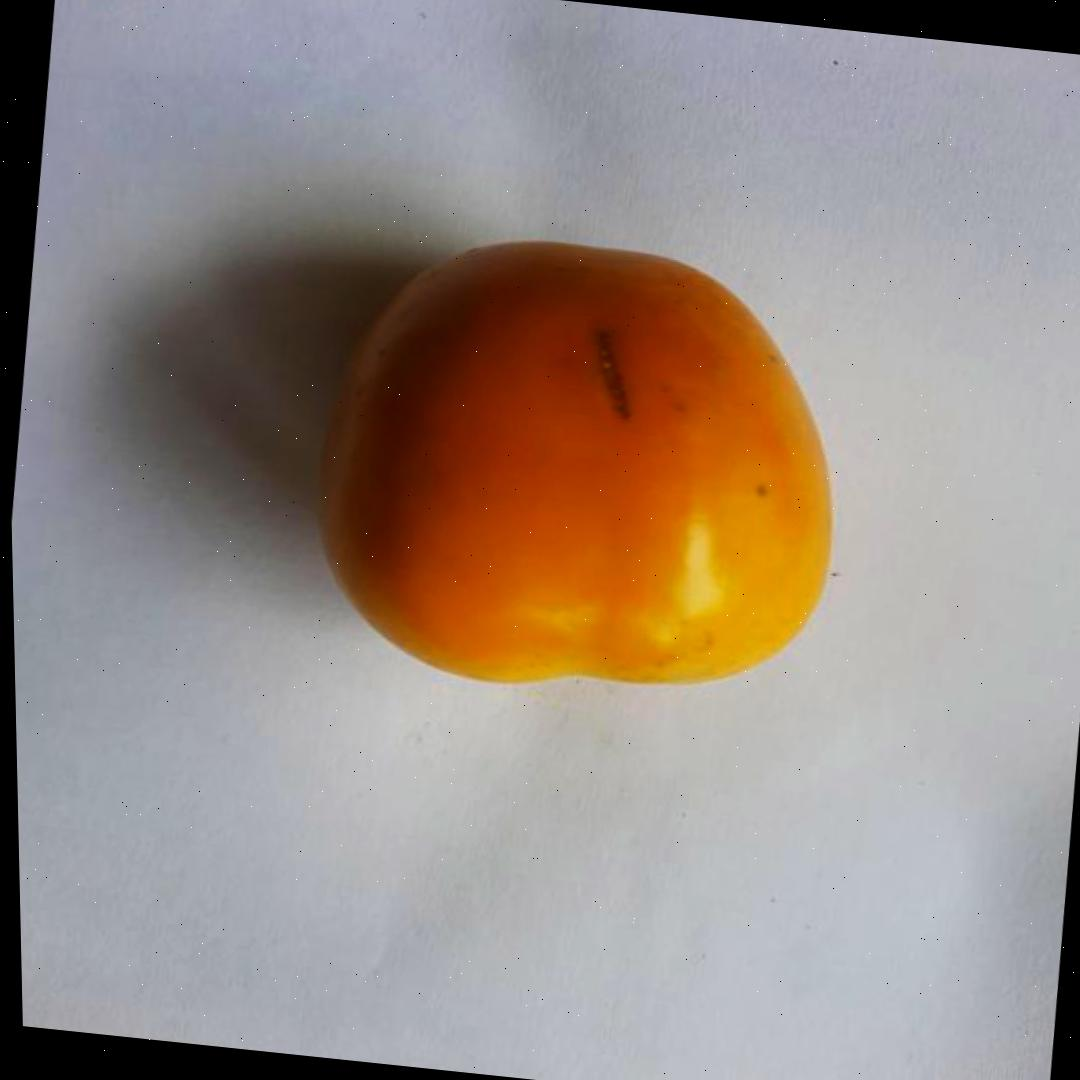setengah_matang: (292, 215, 870, 721)
